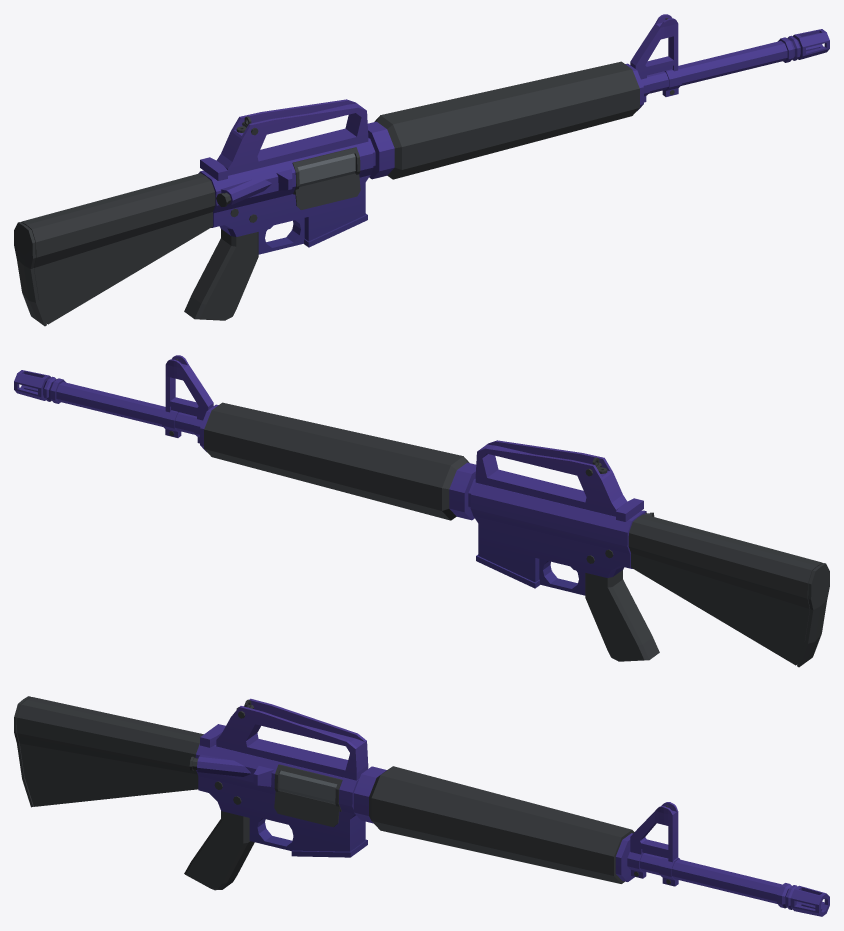
Rendered from AssaultRifle5_06.fbx.
3 renders of one model, top to bottom at view 1: azimuth 30°, elevation 25°; view 2: azimuth 150°, elevation 25°; view 3: azimuth 330°, elevation 25°, orthographic.
Visible parts, largest first — view 1: AssaultRifle5_06; view 2: AssaultRifle5_06; view 3: AssaultRifle5_06.
Boxes of the visible parts, <box> form: AssaultRifle5_06: <box>14,14,829,326</box>; AssaultRifle5_06: <box>14,355,829,667</box>; AssaultRifle5_06: <box>14,696,829,916</box>.
Size of the model in its own units: 1.04 by 0.2381 by 0.0756.
